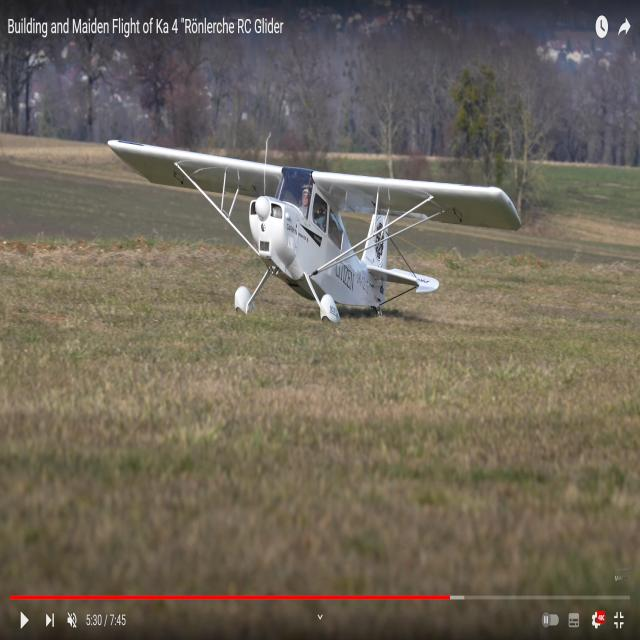iha: (93, 135, 467, 325)
